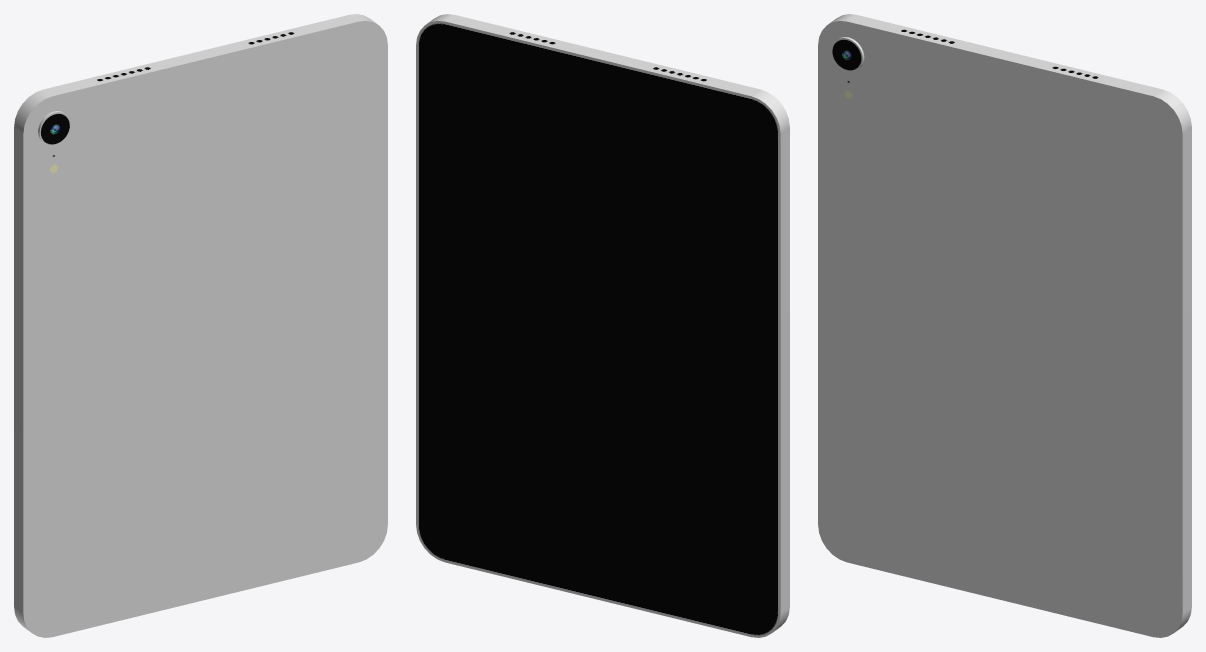
The model's file is ipad.obj.
3 renders of one model, left to right at view 1: azimuth 30°, elevation 25°; view 2: azimuth 150°, elevation 25°; view 3: azimuth 330°, elevation 25°, orthographic.
Parts seen in each view (by area): view 1: iPad_Mini_6; view 2: iPad_Mini_6; view 3: iPad_Mini_6.
Part boxes in pixels (x1,y1,x2,y2): iPad_Mini_6: (14, 14, 387, 637); iPad_Mini_6: (416, 14, 789, 637); iPad_Mini_6: (818, 14, 1191, 637).
Bounding box in the file's own units: 0.1406 × 0.1993 × 0.00725.
Materials: 1 (1 with a texture image).
